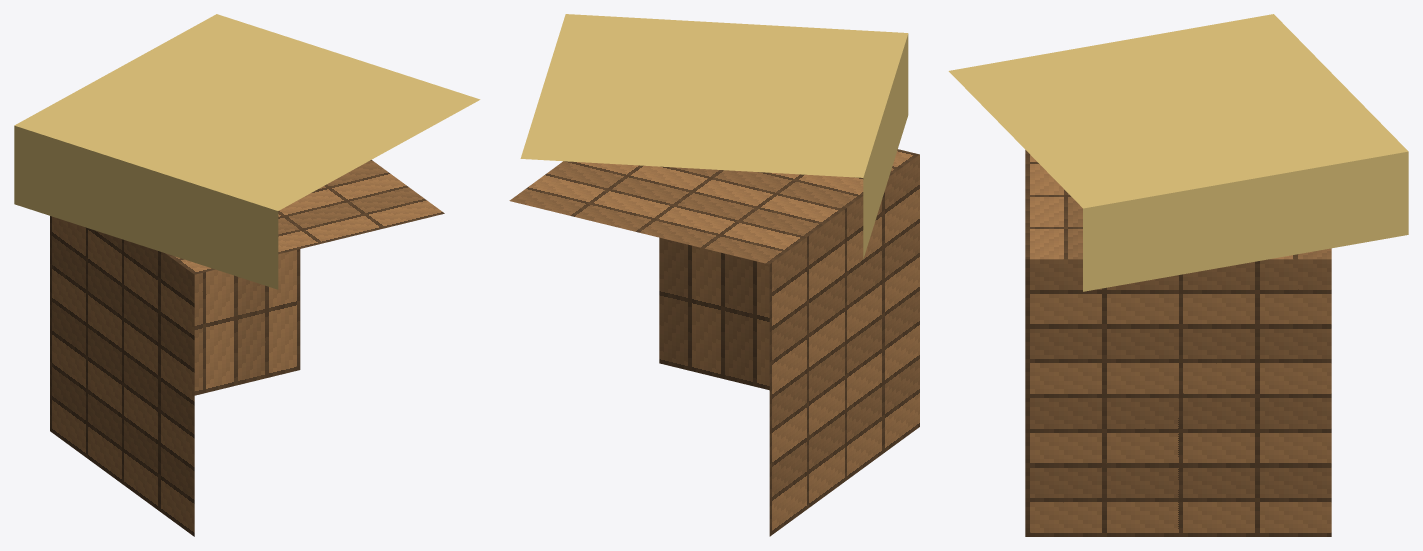
File: crate.gltf
3 views of the same model, side by side, from view 1: azimuth 30°, elevation 25°; view 2: azimuth 150°, elevation 25°; view 3: azimuth 270°, elevation 25° (orthographic). The views are drawn at different scales.
Visible parts, largest first — view 1: lid, body; view 2: body, lid; view 3: body, lid.
Part boxes in pixels (box(x1,y1,x2,y2)): lid: box(14, 14, 480, 289); body: box(50, 160, 444, 536); body: box(509, 149, 919, 536); lid: box(520, 14, 908, 258); body: box(1025, 150, 1331, 536); lid: box(948, 14, 1408, 291).
Bounding box in the file's own units: 1.5 × 1.3 × 1.5.
2 materials, 1 textured.
